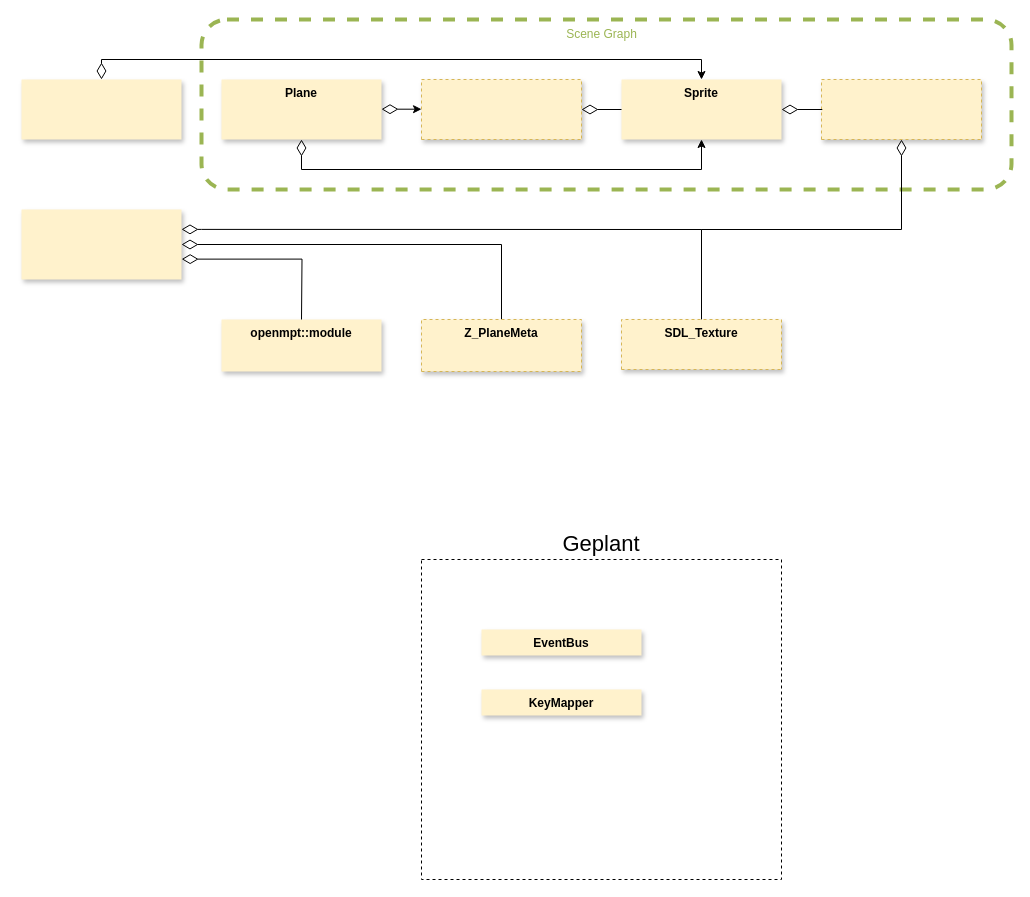
Image size: 1030x897. Some labels were removed from this diagram. The centre of each missing label's shape, as x and y in pixels:
Animation: (902,110)
Game: (102,115)
ResourceManager: (102,245)
Tilemap: (502,110)
